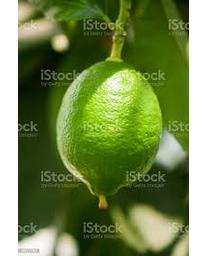lemon: (56, 60, 161, 198)
